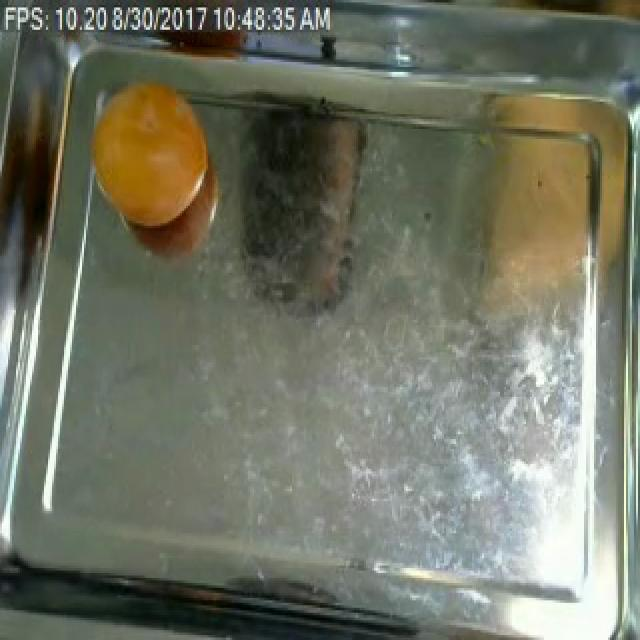Fruit: (474, 119, 606, 357), (80, 67, 218, 236)
